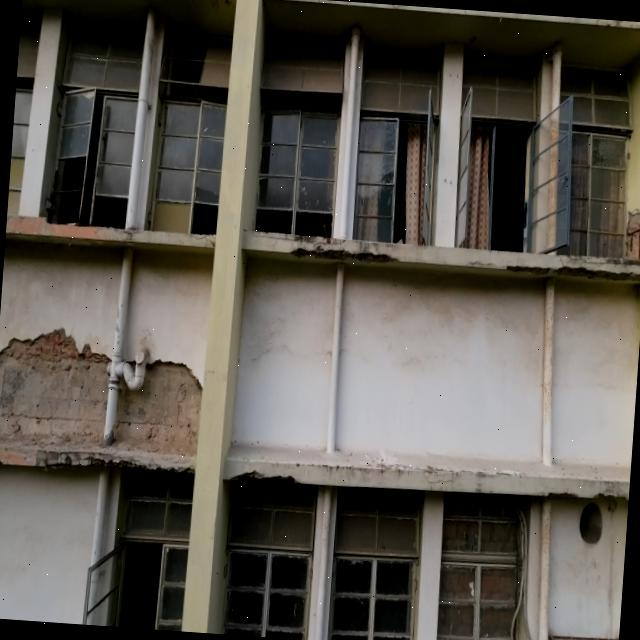peeling: (242, 231, 640, 283), (5, 219, 215, 248), (294, 242, 392, 261)
spalling: (0, 329, 200, 468)
stain_mould: (241, 230, 640, 283), (5, 218, 215, 249)
